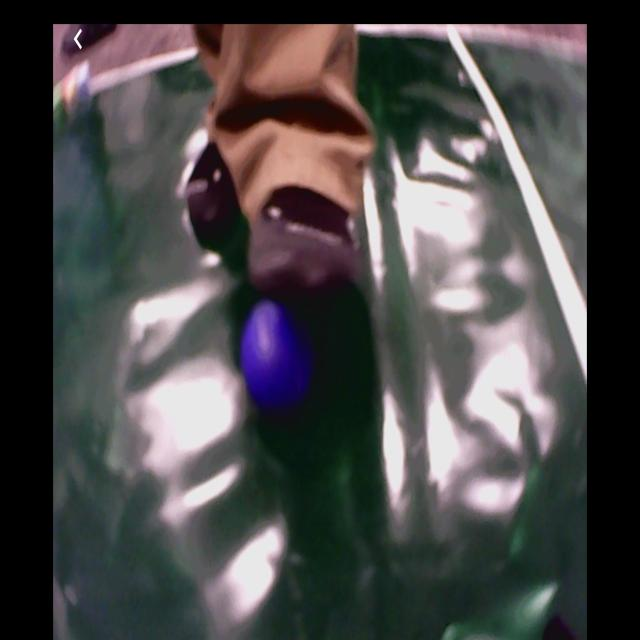ball: (243, 305, 309, 407)
